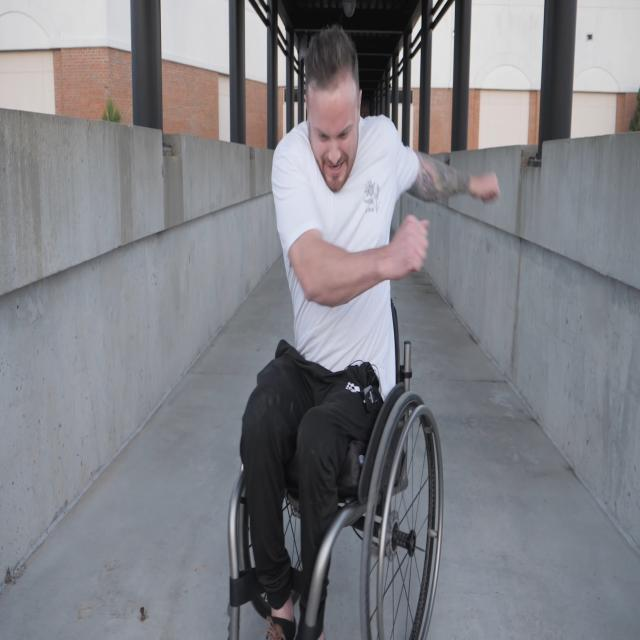wheelchairs: (228, 274, 445, 640)
